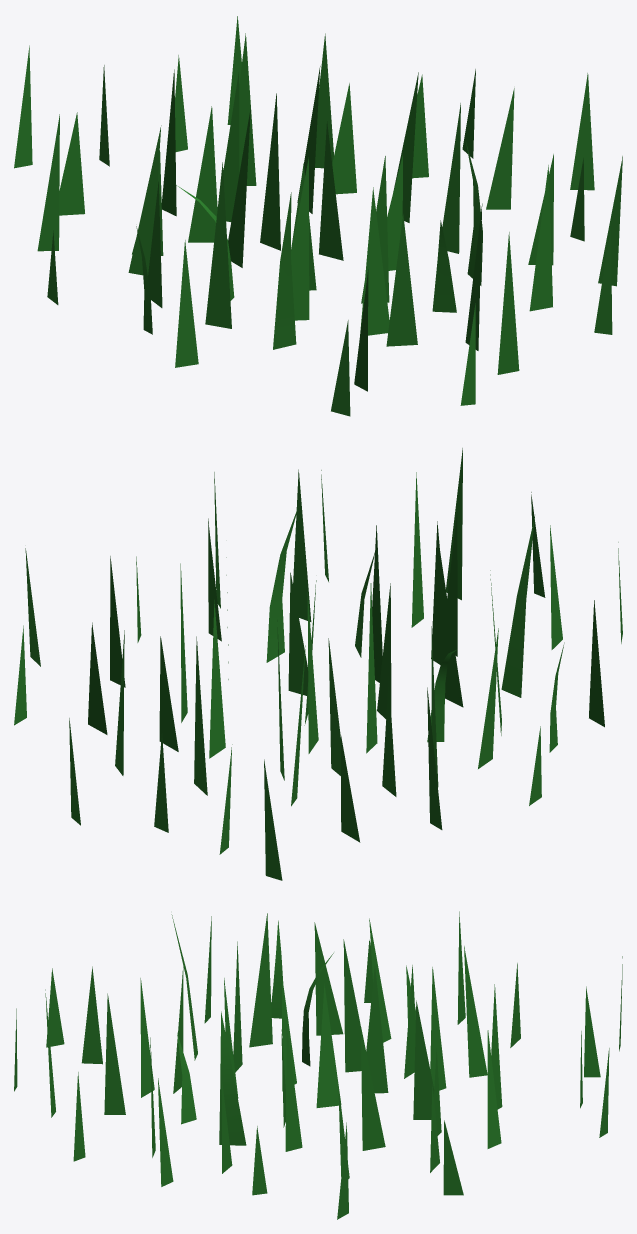
File: grass_patches_set_ellipse_mini_light.fbx
3 renders of one model, top to bottom at view 1: azimuth 30°, elevation 25°; view 2: azimuth 150°, elevation 25°; view 3: azimuth 270°, elevation 25°, orthographic. The views are drawn at different scales.
Visible parts, largest first — view 1: grass_ground_paint_A351, grass_ground_paint_A356, grass_ground_paint_A386, grass_ground_paint_A489, grass_ground_paint_A387, grass_ground_paint_B142, grass_ground_paint_A292, grass_ground_paint_A618, grass_ground_paint_A488, grass_ground_paint_A586, grass_ground_paint_A323, grass_ground_paint_A550 (+33 smaller); view 2: grass_ground_paint_B142, grass_ground_paint_A387, grass_ground_paint_C69, grass_ground_paint_A352, grass_ground_paint_A292, grass_ground_paint_A554, grass_ground_paint_A517, grass_ground_paint_A586, grass_ground_paint_A518, grass_ground_paint_A192, grass_ground_paint_A157, grass_ground_paint_A686 (+22 smaller); view 3: grass_ground_paint_C69, grass_ground_paint_A351, grass_ground_paint_A618, grass_ground_paint_A554, grass_ground_paint_A157, grass_ground_paint_A187, grass_ground_paint_A488, grass_ground_paint_A393, grass_ground_paint_A357, grass_ground_paint_A616, grass_ground_paint_A287, grass_ground_paint_A290 (+23 smaller).
Boxes of the visible parts, box(x1,y1,x2,y2) form: grass_ground_paint_A351: box(205, 162, 231, 328); grass_ground_paint_A356: box(386, 214, 417, 346); grass_ground_paint_A386: box(360, 187, 389, 335); grass_ground_paint_A489: box(188, 106, 217, 242); grass_ground_paint_A387: box(291, 157, 309, 320); grass_ground_paint_B142: box(273, 192, 296, 349); grass_ground_paint_A292: box(529, 165, 552, 311); grass_ground_paint_A618: box(319, 121, 343, 260); grass_ground_paint_A488: box(260, 93, 280, 250); grass_ground_paint_A586: box(332, 83, 356, 194); grass_ground_paint_A323: box(128, 125, 161, 275); grass_ground_paint_A550: box(497, 232, 519, 374); grass_ground_paint_B142: box(501, 516, 534, 697); grass_ground_paint_A387: box(438, 538, 463, 707); grass_ground_paint_C69: box(266, 506, 298, 662); grass_ground_paint_A352: box(288, 572, 308, 695); grass_ground_paint_A292: box(293, 469, 311, 621); grass_ground_paint_A554: box(209, 600, 225, 758); grass_ground_paint_A517: box(194, 636, 207, 795); grass_ground_paint_A586: box(159, 636, 178, 751); grass_ground_paint_A518: box(88, 622, 107, 734); grass_ground_paint_A192: box(589, 600, 604, 727); grass_ground_paint_A157: box(366, 583, 377, 753); grass_ground_paint_A686: box(264, 759, 282, 880); grass_ground_paint_C69: box(219, 1011, 246, 1145); grass_ground_paint_A351: box(249, 913, 272, 1047); grass_ground_paint_A618: box(316, 984, 341, 1107); grass_ground_paint_A554: box(413, 1000, 434, 1119); grass_ground_paint_A157: box(343, 939, 361, 1072); grass_ground_paint_A187: box(361, 1027, 385, 1150); grass_ground_paint_A488: box(366, 966, 388, 1093); grass_ground_paint_A393: box(104, 993, 125, 1114); grass_ground_paint_A357: box(314, 922, 343, 1035); grass_ground_paint_A616: box(464, 946, 487, 1077); grass_ground_paint_A287: box(285, 1026, 302, 1151); grass_ground_paint_A290: box(81, 966, 102, 1064).
Bounding box in the file's own units: 145 × 45.56 × 171.
